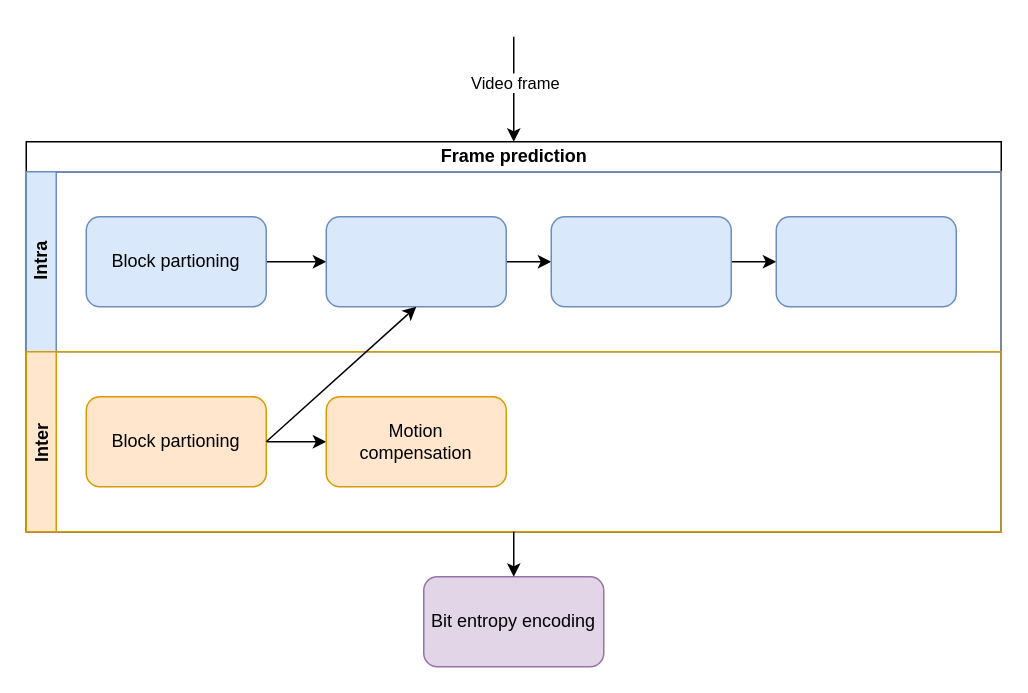
Image size: 1028x693. Some labels were removed from this diagram. The centre of each missing label's shape, as x and y in pixels:
"Block intra prediction" belongs at (640,261).
"Block mode prediction" belongs at (415,261).
"Residual transformation and quantization" belongs at (865,261).
